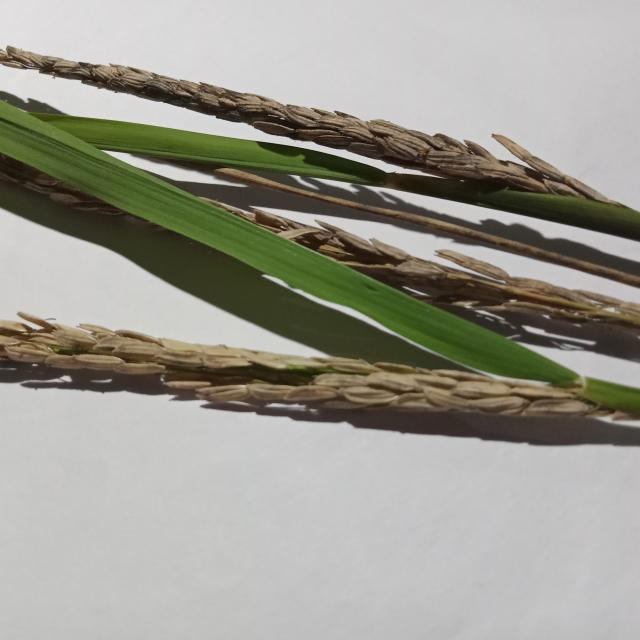Neck_Blast: (0, 49, 586, 185), (0, 318, 640, 425), (186, 203, 640, 343)
